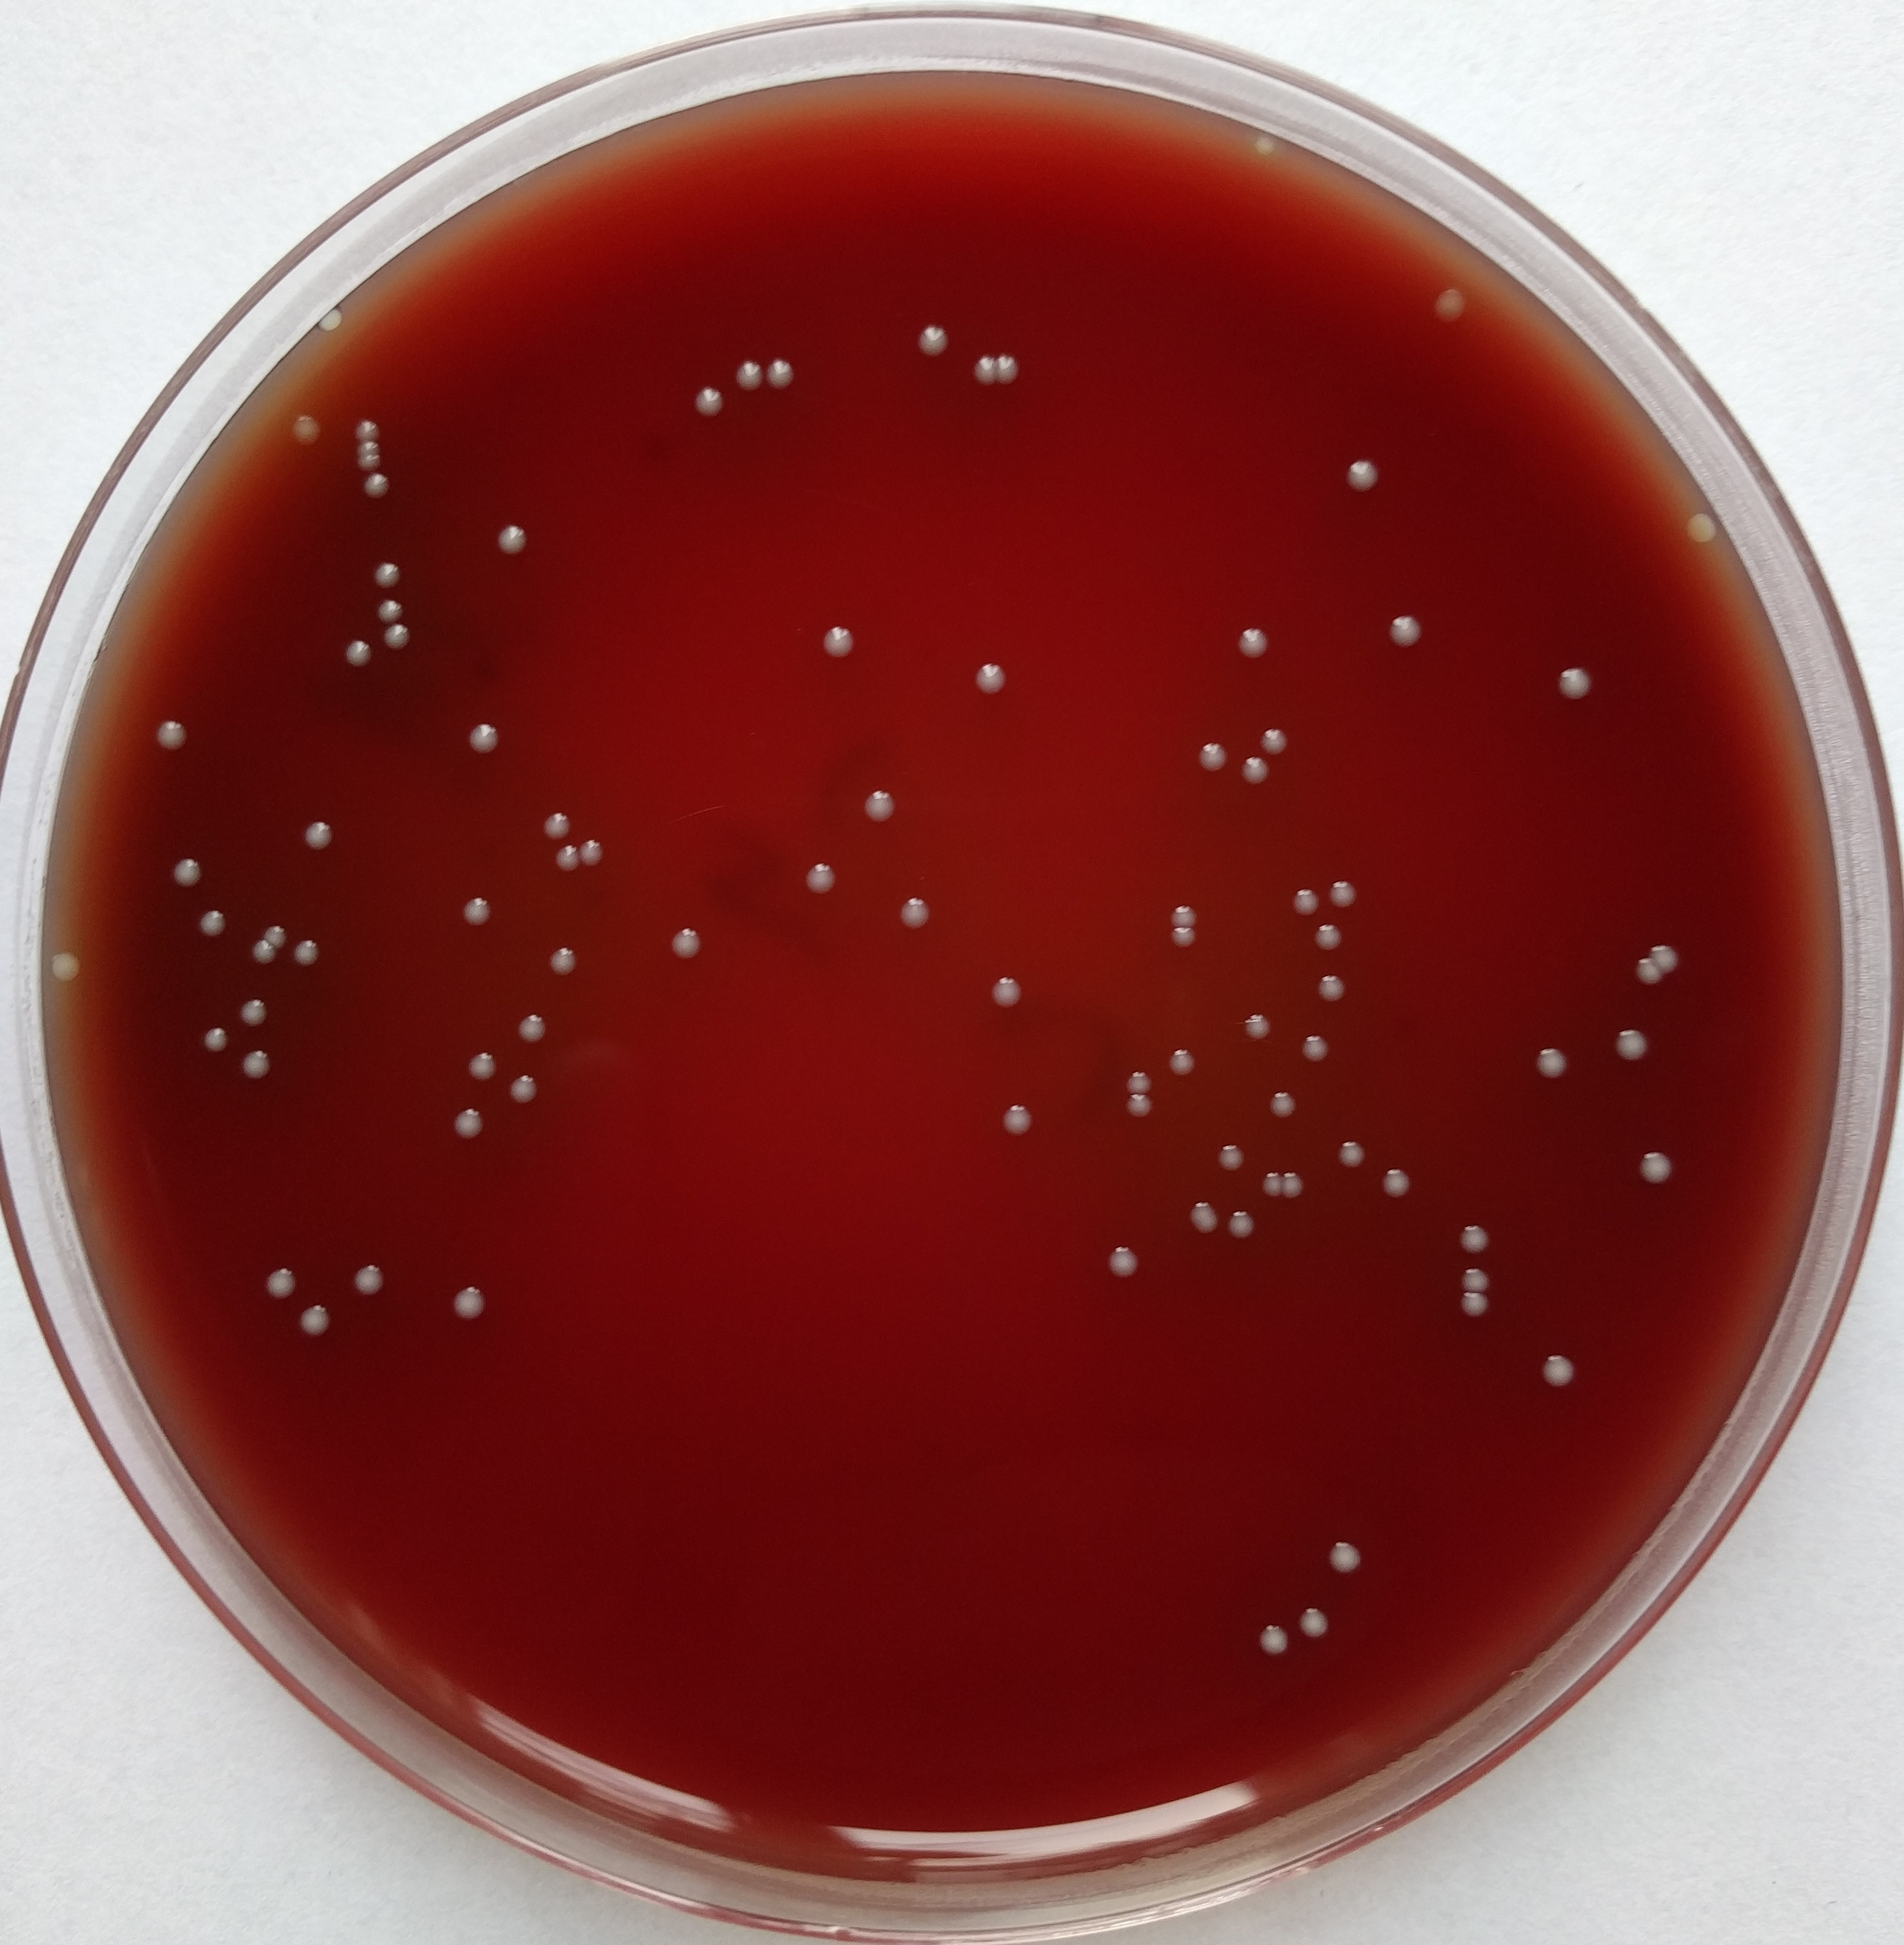sp24: (1425, 267, 1480, 340), (460, 700, 516, 773), (225, 1036, 291, 1097), (1297, 956, 1362, 1015), (535, 933, 602, 991), (795, 844, 856, 905), (1292, 1584, 1344, 1654), (1599, 1010, 1658, 1071), (1114, 1045, 1175, 1104), (966, 645, 1022, 710), (575, 820, 628, 888), (978, 956, 1030, 1024), (289, 802, 347, 863), (289, 1291, 350, 1348), (499, 1061, 554, 1122), (439, 1270, 495, 1331), (277, 403, 342, 455), (1445, 1211, 1510, 1263), (889, 886, 945, 944), (150, 850, 218, 897), (724, 335, 776, 396), (1330, 450, 1391, 502), (192, 1010, 244, 1071), (1254, 1071, 1306, 1130), (1315, 1533, 1374, 1586), (485, 513, 537, 570), (145, 708, 202, 761), (188, 895, 241, 952), (1632, 1143, 1690, 1195), (1097, 1235, 1149, 1293), (1221, 619, 1282, 668), (446, 883, 507, 932), (1442, 1252, 1510, 1296), (1229, 1001, 1285, 1054), (1285, 1019, 1341, 1071), (255, 1252, 307, 1308), (1285, 870, 1332, 932), (221, 994, 295, 1033), (1683, 509, 1735, 562), (1186, 729, 1238, 781), (1229, 747, 1282, 799), (1250, 1614, 1302, 1666), (961, 335, 1010, 391), (1207, 1130, 1255, 1186), (910, 309, 957, 366), (1156, 1036, 1214, 1083), (996, 1090, 1043, 1148), (1280, 1137, 1318, 1207), (1531, 1027, 1569, 1097), (765, 338, 809, 399), (821, 616, 865, 677), (349, 459, 410, 502), (460, 1036, 504, 1097), (345, 1252, 392, 1308), (1552, 654, 1595, 713), (511, 994, 554, 1054), (544, 827, 596, 876), (1173, 1197, 1229, 1242), (1374, 1155, 1421, 1207), (1118, 1090, 1179, 1130), (1543, 1341, 1583, 1402), (1250, 717, 1306, 761), (443, 1090, 492, 1139), (47, 933, 91, 986), (366, 616, 418, 659), (337, 616, 380, 668), (1212, 1202, 1264, 1245), (1442, 1287, 1506, 1322), (1656, 912, 1697, 968), (860, 781, 907, 829), (664, 918, 708, 968), (1602, 951, 1662, 987), (996, 337, 1036, 389), (1165, 886, 1217, 926), (1156, 921, 1208, 961), (363, 551, 413, 591), (234, 930, 274, 979), (535, 806, 584, 846), (685, 377, 729, 420), (298, 297, 354, 328), (1386, 611, 1426, 654), (1327, 870, 1365, 914), (345, 406, 392, 441), (345, 441, 398, 473), (1339, 1130, 1374, 1177), (1245, 126, 1289, 162), (375, 584, 406, 630), (1306, 919, 1344, 954), (255, 914, 288, 952), (293, 935, 323, 975)
